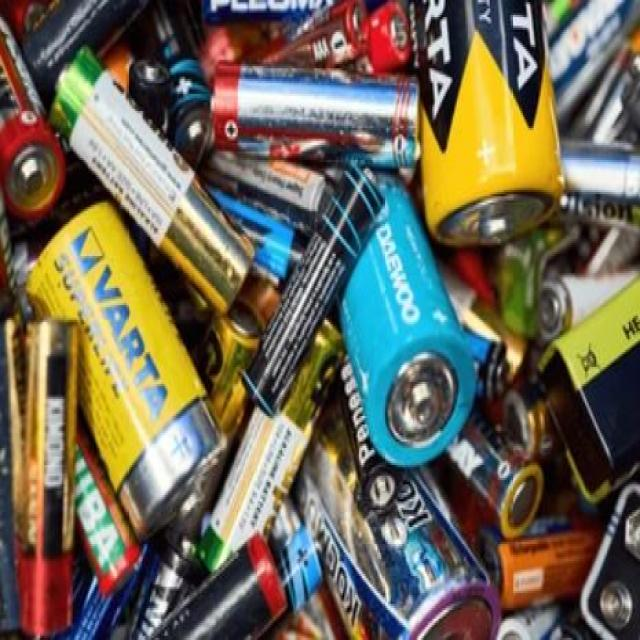electronic: (22, 18, 286, 356)
